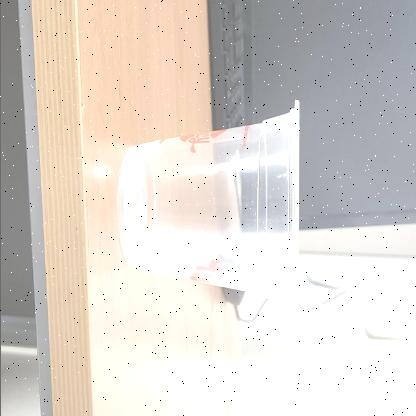Others: (112, 100, 302, 316)
